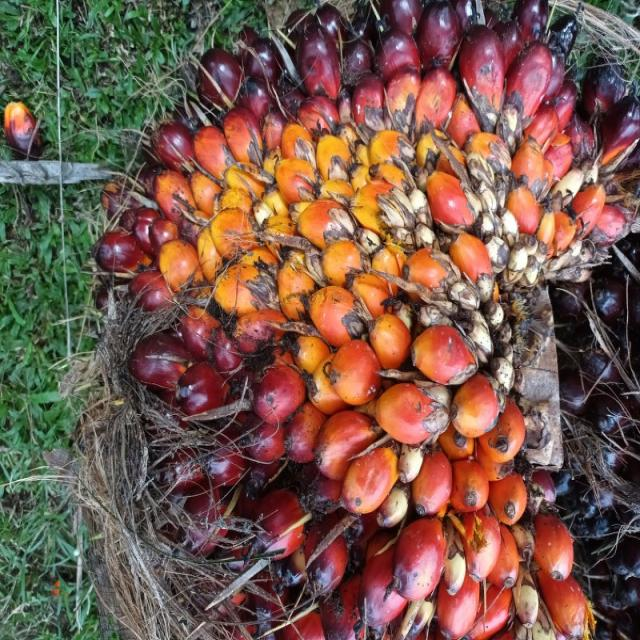fraksi 1: (53, 0, 561, 637)
